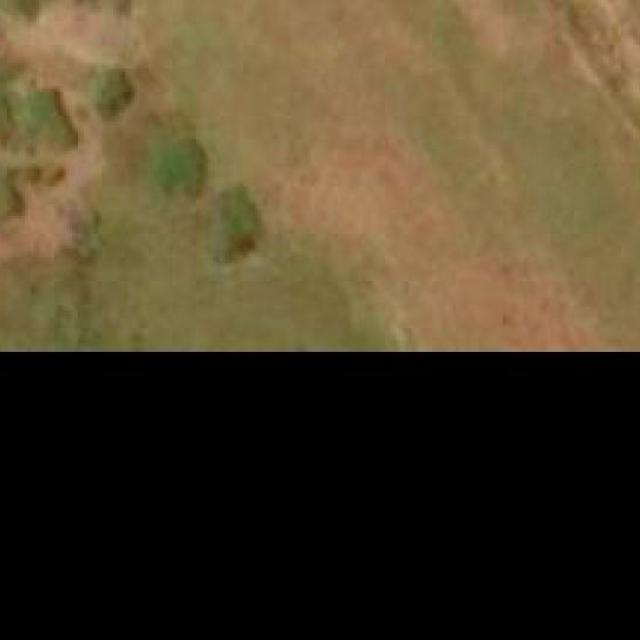Tree: (212, 189, 264, 257), (148, 136, 210, 192), (27, 86, 72, 151), (82, 63, 134, 119), (0, 143, 19, 220)
